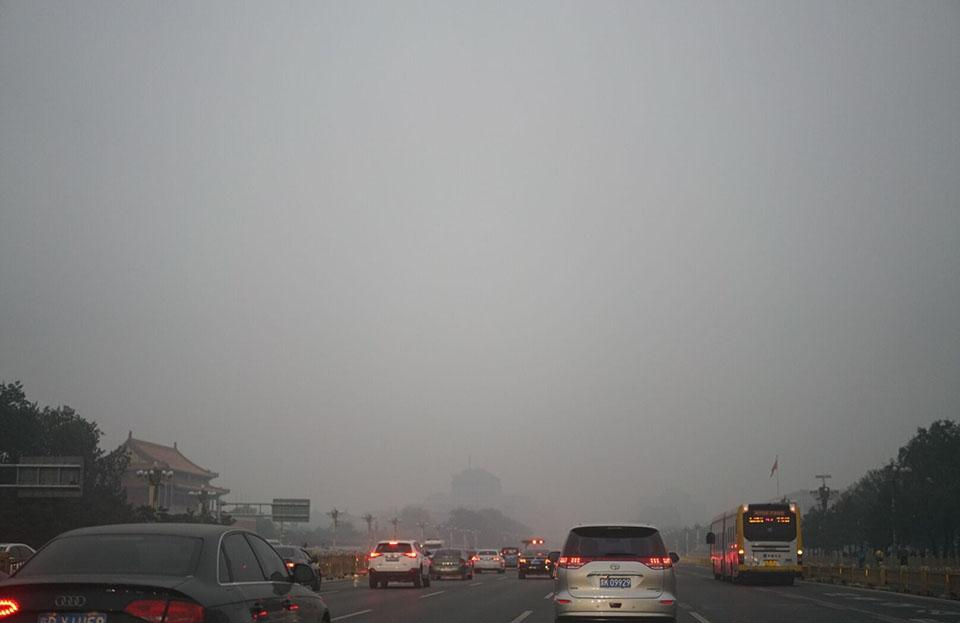bus: (705, 499, 803, 583)
car: (1, 526, 332, 623), (548, 521, 679, 623), (257, 545, 328, 602), (369, 539, 433, 591), (1, 541, 50, 578), (429, 545, 475, 582), (517, 546, 554, 578), (472, 547, 507, 574), (497, 545, 527, 569)
